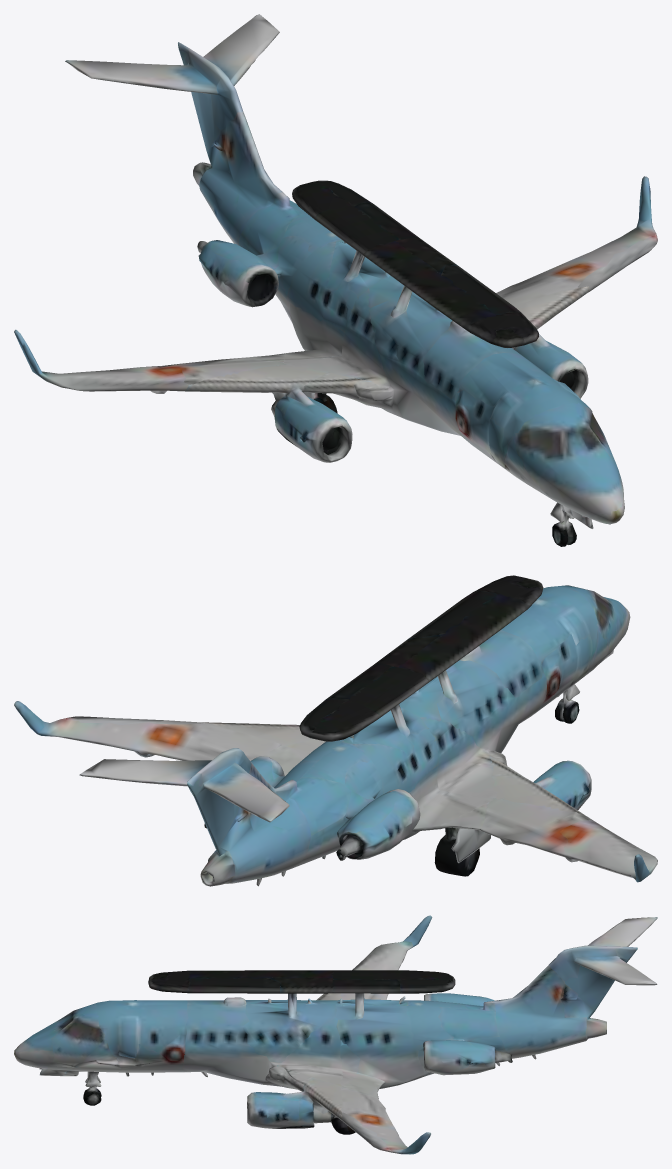
File: netra_aewc.glb
The picture shows the model from 3 angles, top to bottom: view 1: azimuth 30°, elevation 25°; view 2: azimuth 150°, elevation 25°; view 3: azimuth 270°, elevation 25°; orthographic projection. The views are drawn at different scales.
Visible parts, largest first — view 1: tripo_node_be59313a-3e34-437c-bc7b-e43afdb2b77e; view 2: tripo_node_be59313a-3e34-437c-bc7b-e43afdb2b77e; view 3: tripo_node_be59313a-3e34-437c-bc7b-e43afdb2b77e.
Boxes of the visible parts, x1,y1,x2,y2 form: tripo_node_be59313a-3e34-437c-bc7b-e43afdb2b77e: [14, 14, 657, 546]; tripo_node_be59313a-3e34-437c-bc7b-e43afdb2b77e: [14, 575, 657, 886]; tripo_node_be59313a-3e34-437c-bc7b-e43afdb2b77e: [14, 915, 657, 1154].
Size of the model in its own units: 0.8019 by 0.2768 by 0.9998.
1 material, 1 textured.
